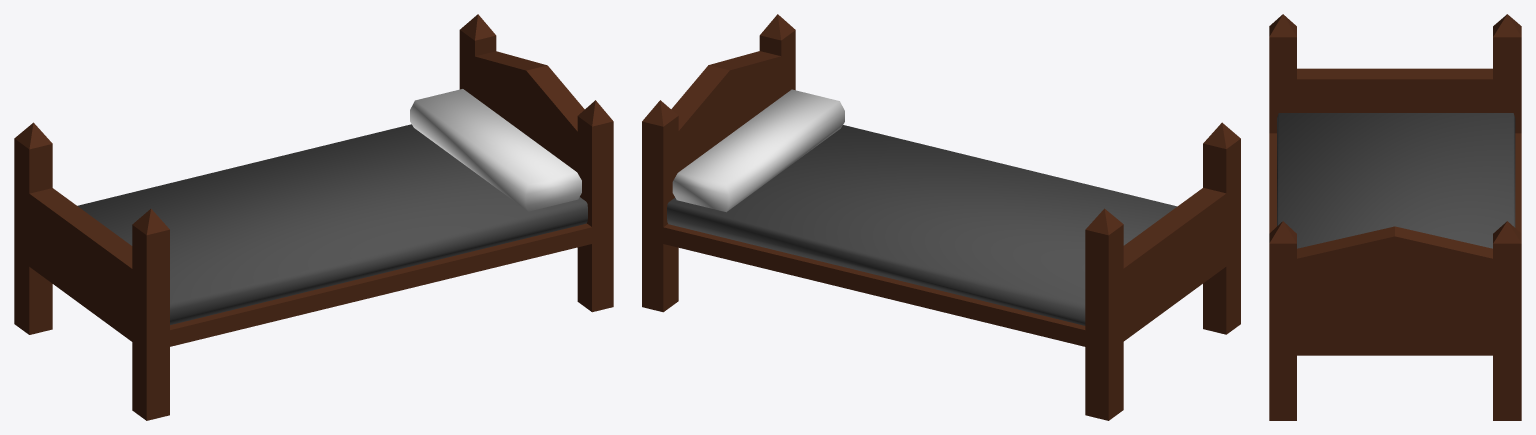
File: Cama.fbx
3 renders of one model, left to right at view 1: azimuth 30°, elevation 25°; view 2: azimuth 150°, elevation 25°; view 3: azimuth 270°, elevation 25°, orthographic. The views are drawn at different scales.
Visible parts, largest first — view 1: Cama.001; view 2: Cama.001; view 3: Cama.001.
Boxes of the visible parts, x1,y1,x2,y2 form: Cama.001: (14, 14, 613, 420); Cama.001: (642, 14, 1240, 420); Cama.001: (1269, 14, 1521, 420).
Size of the model in its own units: 2.15 by 0.8978 by 1.05.
